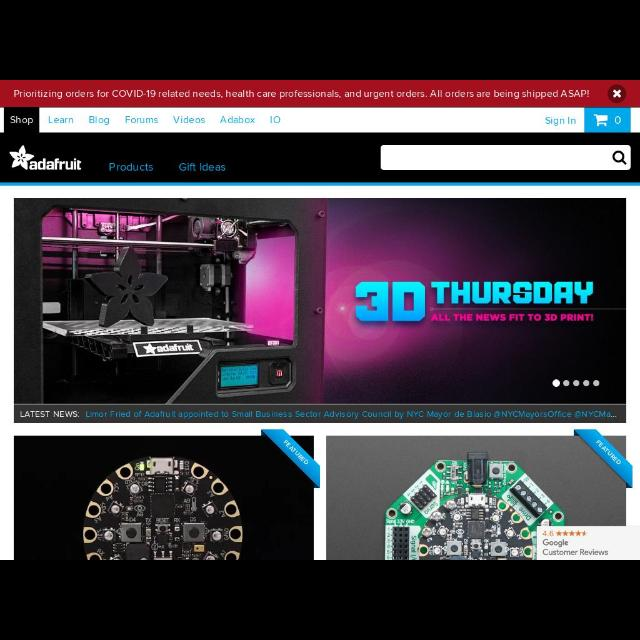button: (586, 108, 630, 132), (608, 85, 626, 103)
icon: (612, 151, 626, 165), (594, 114, 608, 126)
image: (15, 198, 625, 422), (13, 429, 319, 559), (326, 430, 632, 558), (10, 146, 81, 170)
input: (381, 146, 631, 170)
multitab: (1, 134, 639, 184)
text: (15, 90, 589, 98), (179, 163, 225, 170), (110, 163, 152, 170), (546, 116, 576, 125), (126, 116, 158, 124), (173, 116, 204, 124), (220, 117, 253, 123), (49, 116, 73, 124), (90, 116, 108, 125), (270, 117, 280, 123), (614, 117, 620, 123)
textbutton: (5, 108, 40, 132)
toolbar: (1, 107, 639, 133)
